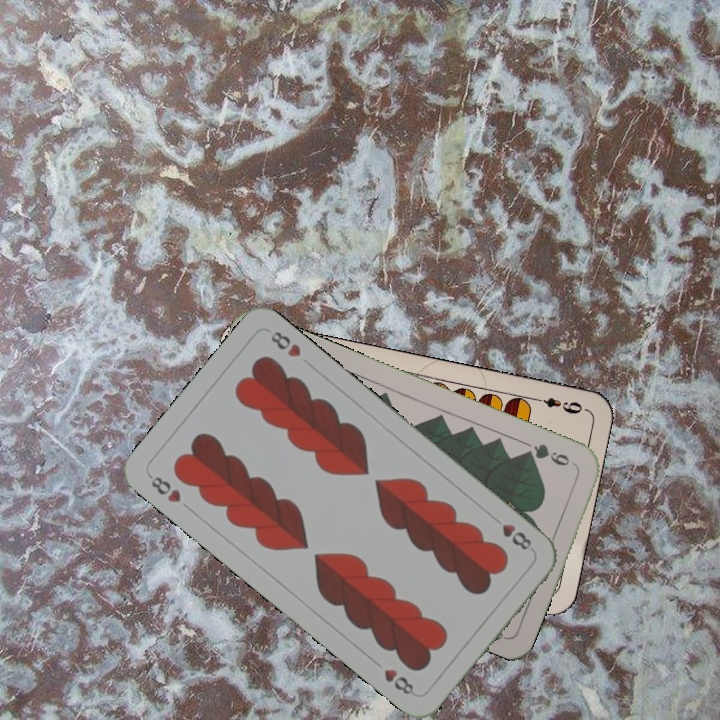E9: (530, 393, 588, 417)
G9: (519, 439, 578, 469)
H8: (144, 471, 184, 506), (498, 519, 534, 553)
